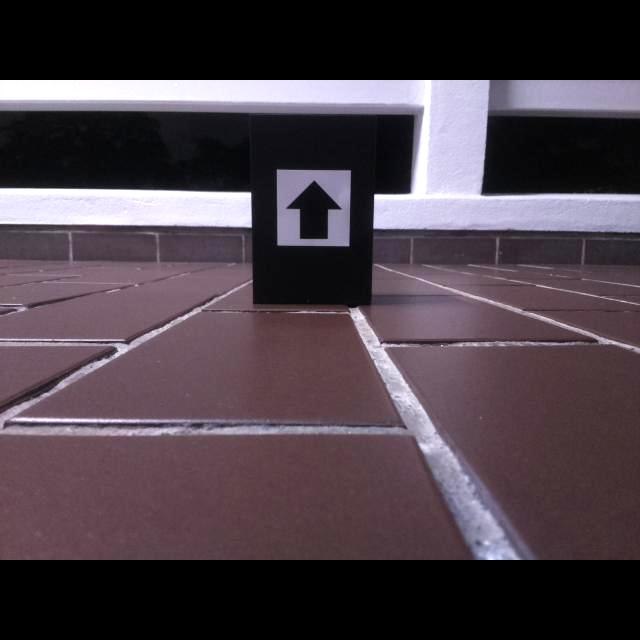UP: (285, 180, 343, 240)
